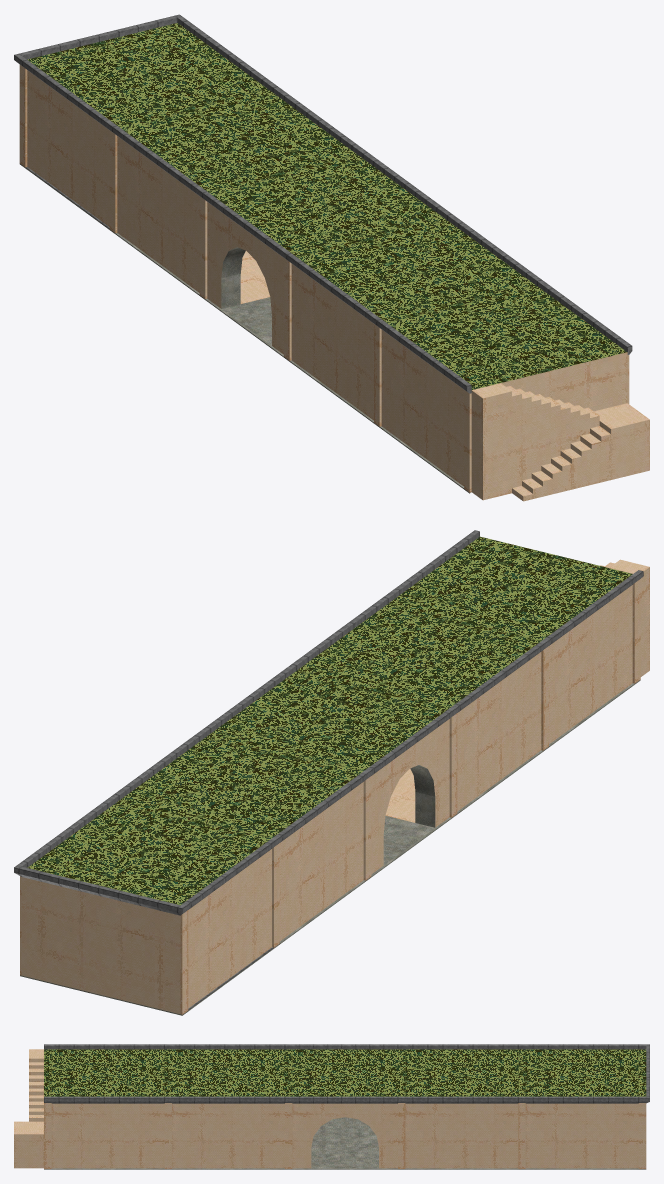
File: west_wall.glb
3 renders of one model, top to bottom at view 1: azimuth 30°, elevation 25°; view 2: azimuth 150°, elevation 25°; view 3: azimuth 270°, elevation 25°, orthographic. The views are drawn at different scales.
Visible parts, largest first — view 1: WallEdgeW2; view 2: WallEdgeW2; view 3: WallEdgeW2.
Boxes of the visible parts, x1,y1,x2,y2 form: WallEdgeW2: [14, 14, 649, 501]; WallEdgeW2: [14, 530, 649, 1015]; WallEdgeW2: [14, 1044, 649, 1169].
Size of the model in its own units: 17 by 10.6 by 84.5.
Materials: 5 (5 with a texture image).
